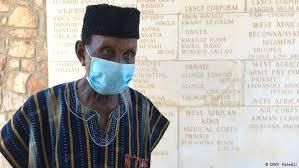Wearing Mask: (75, 4, 142, 97)
